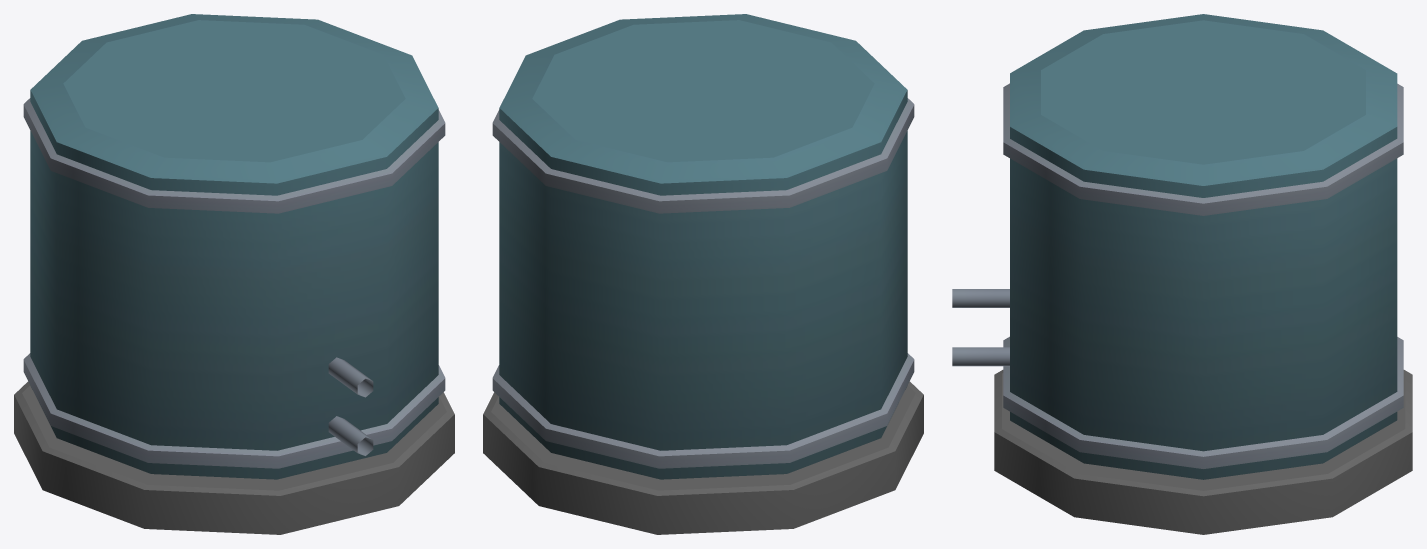
File: GasTank_2_F.fbx
The picture shows the model from 3 angles, left to right: view 1: azimuth 30°, elevation 25°; view 2: azimuth 150°, elevation 25°; view 3: azimuth 270°, elevation 25°; orthographic projection.
Visible parts, largest first — view 1: GasTank_2_F; view 2: GasTank_2_F; view 3: GasTank_2_F.
Boxes of the visible parts, <box> form: GasTank_2_F: <box>14,14,454,534</box>; GasTank_2_F: <box>483,14,923,534</box>; GasTank_2_F: <box>952,14,1412,534</box>.
Bounding box in the file's own units: 900 × 790 × 942.
